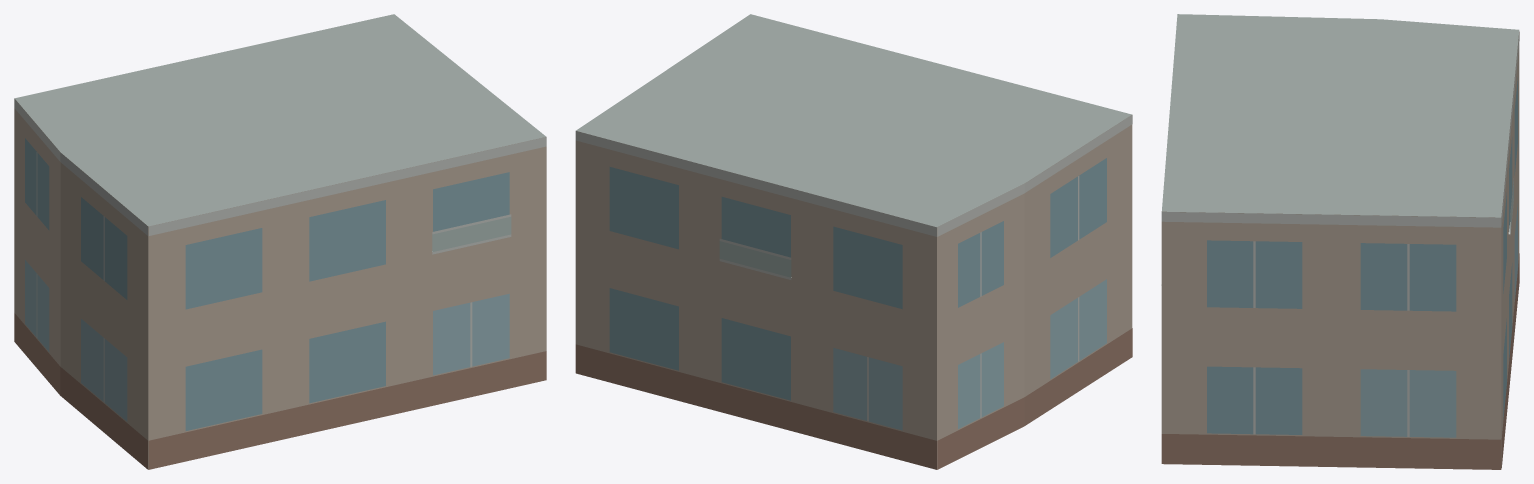
The model's file is survey-upis-32825363.glb.
3 renders of one model, left to right at view 1: azimuth 30°, elevation 25°; view 2: azimuth 150°, elevation 25°; view 3: azimuth 270°, elevation 25°, orthographic. The views are drawn at different scales.
Visible parts, largest first — view 1: survey-upis-32825363.tmp; view 2: survey-upis-32825363.tmp; view 3: survey-upis-32825363.tmp.
Part boxes in pixels (x1,y1,x2,y2): survey-upis-32825363.tmp: [14, 14, 546, 469]; survey-upis-32825363.tmp: [575, 14, 1132, 469]; survey-upis-32825363.tmp: [1161, 14, 1519, 469].
Size of the model in its own units: 10.56 by 6.1 by 7.85.
